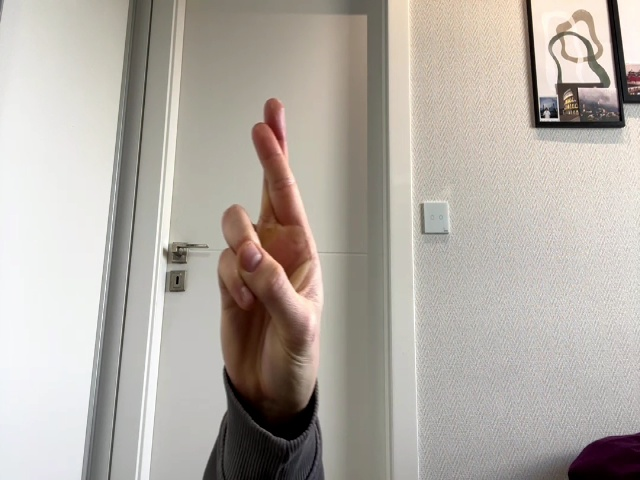R: (218, 99, 324, 395)
